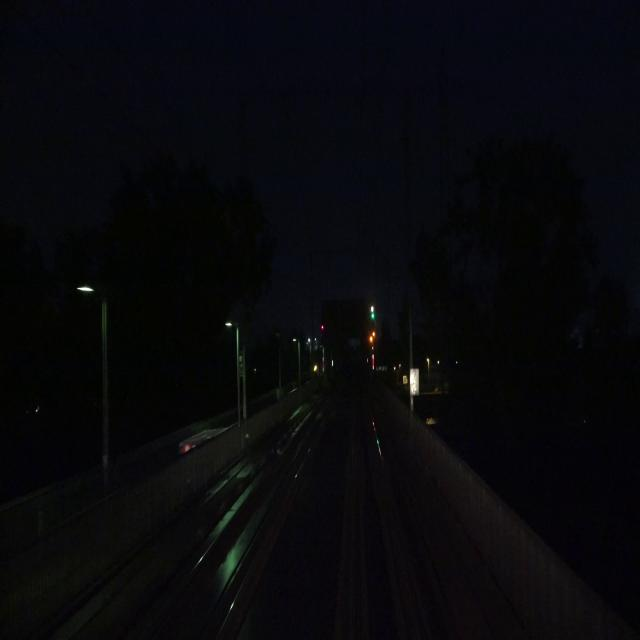rail-track: (148, 394, 330, 639), (355, 396, 425, 639)
